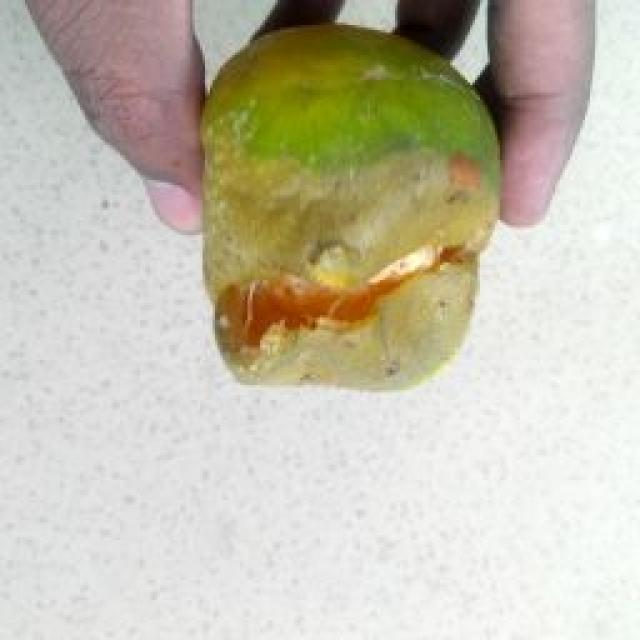Bad_Orange: (202, 24, 498, 389)
